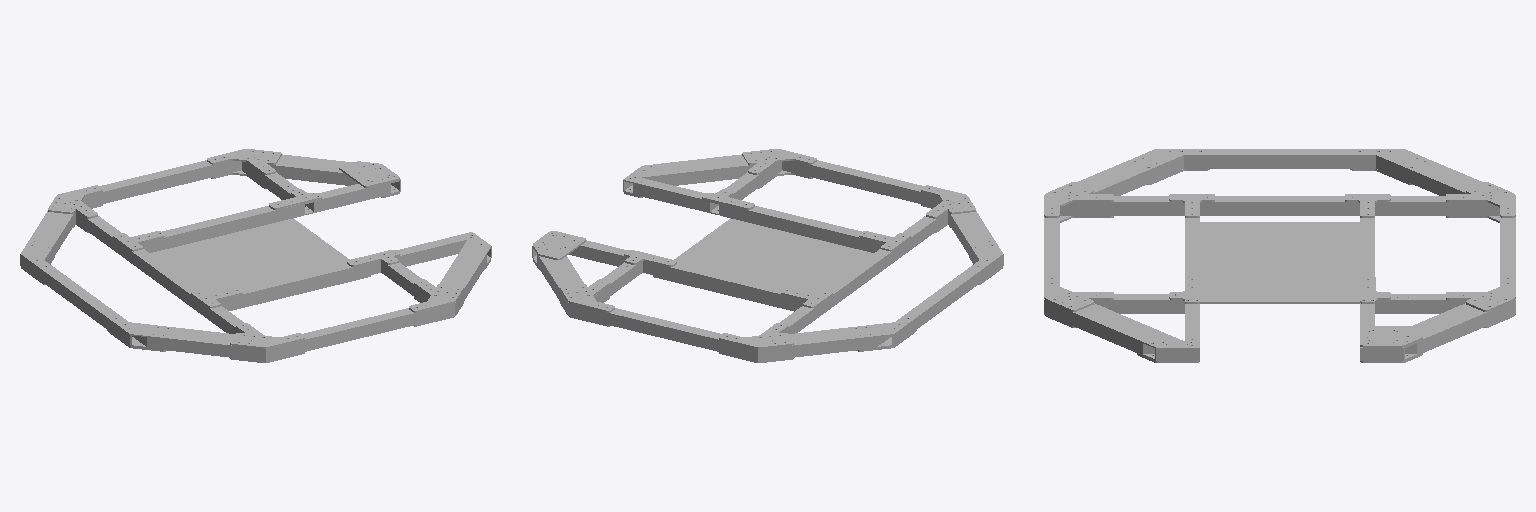
URDF robot description (court):
<?xml version="1.0" encoding="utf-8"?>
<!-- This URDF was automatically created by SolidWorks to URDF Exporter! Originally created by [author] ([email redacted]) 
     Commit Version: 1.5.1-0-g916b5db  Build Version: 1.5.7152.31018
     For more information, please see http://wiki.ros.org/sw_urdf_exporter -->
<robot
  name="court">
  <link
    name="base_link">
    <inertial>
      <origin
        xyz="2.91095563302197E-07 0.966124538143455 -3.44816316444229E-07"
        rpy="0 0 0" />
      <mass
        value="477.295792337381" />
      <inertia
        ixx="2938.17789408674"
        ixy="0.000112508512213997"
        ixz="9.900662018206E-07"
        iyy="10305.5699694725"
        iyz="-0.000127967874139483"
        izz="7441.25688644035" />
    </inertial>
    <visual>
      <origin
        xyz="0 0 0"
        rpy="0 0 0" />
      <geometry>
        <mesh
          filename="package://rc_gazebo/models/court/meshes/base_link.STL" />
      </geometry>
      <material
        name="">
        <color
          rgba="0.752941176470588 0.752941176470588 0.752941176470588 1" />
      </material>
    </visual>
    <collision>
      <origin
        xyz="0 0 0"
        rpy="0 0 0" />
      <geometry>
        <mesh
          filename="package://rc_gazebo/models/court/meshes/base_link.STL" />
      </geometry>
    </collision>
  </link>
</robot>

--- Render facts (derived) ---
3 views of the same robot in one strip: view 1: azimuth 30°, elevation 25°; view 2: azimuth 150°, elevation 25°; view 3: azimuth 270°, elevation 25° (orthographic).
Model court with 1 links and 0 joints (none), rooted at base_link, posed every joint at zero.
Visible links, largest first — view 1: base_link; view 2: base_link; view 3: base_link.
Boxes of the visible links, x1,y1,x2,y2 form: base_link: (20,149,491,362); base_link: (532,149,1003,362); base_link: (1044,149,1515,362).
Bounding box of the posed robot: 0.6196 × 0.6196 × 0.026 m (x, y, z).
Meshes: 1 distinct files referenced, 1 mesh visuals loaded (1 binary STL).